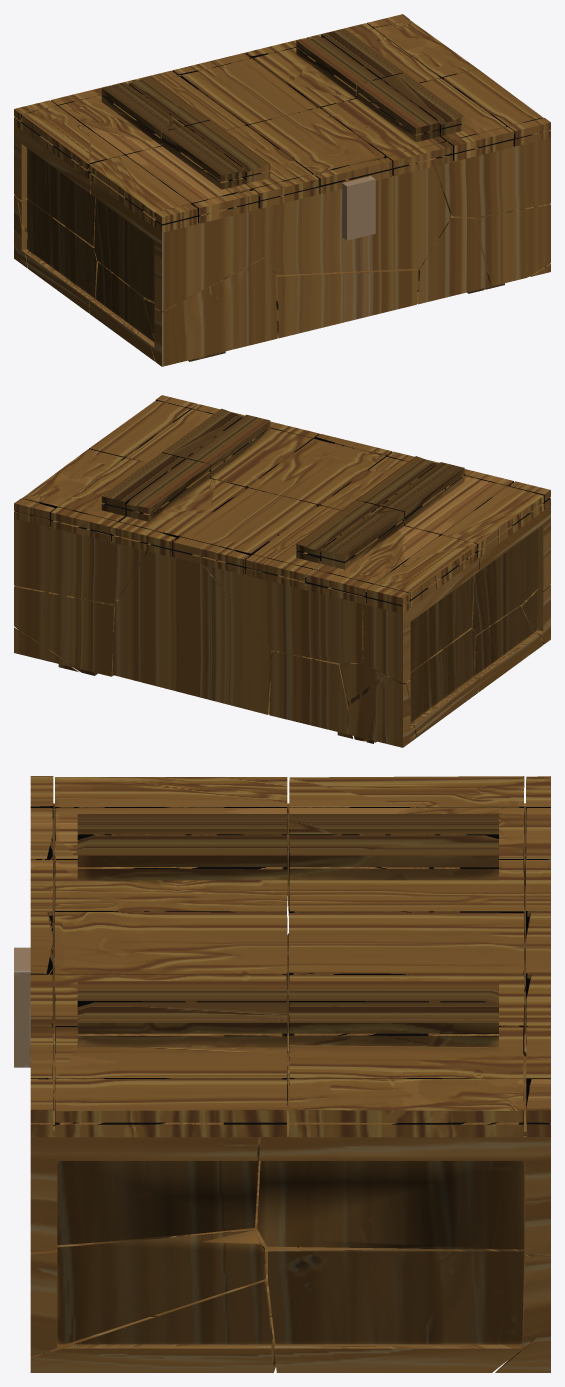
File: Crate_Shattered.fbx
3 views of the same model, one above another, from view 1: azimuth 30°, elevation 25°; view 2: azimuth 150°, elevation 25°; view 3: azimuth 270°, elevation 25° (orthographic). The views are drawn at different scales.
Visible parts, largest first — view 1: Crate_geo_cell.020, Crate_geo_cell.006, Crate_geo_cell.003, Crate_geo_cell.001, Crate_geo_cell.010, Crate_geo_cell.016, Crate_geo_cell.015, Crate_cover_geo_cell.046, Crate_cover_geo_cell.032, Crate_geo_cell.005, Crate_geo_cell, Crate_geo_cell.013 (+37 smaller); view 2: Crate_geo_cell.002, Crate_geo_cell.017, Crate_geo_cell.014, Crate_geo_cell.016, Crate_geo_cell.007, Crate_geo_cell.015, Crate_geo_cell.006, Crate_geo_cell.009, Crate_cover_geo_cell.032, Crate_cover_geo_cell.046, Crate_geo_cell.004, Crate_cover_geo_cell.031 (+37 smaller); view 3: Crate_geo_cell.007, Crate_geo_cell.014, Crate_geo_cell.010, Crate_geo_cell.005, Crate_cover_geo_cell.032, Crate_cover_geo_cell.046, Crate_geo_cell.011, Crate_cover_geo_cell.033, Crate_cover_geo_cell.030, Crate_cover_geo_cell.044, Crate_cover_geo_cell.047, Crate_cover_geo_cell.029 (+33 smaller).
Part boxes in pixels (x1,y1,x2,y2): Crate_geo_cell.020: [265, 166, 450, 275]; Crate_geo_cell.006: [91, 181, 272, 311]; Crate_geo_cell.003: [143, 257, 277, 366]; Crate_geo_cell.001: [273, 268, 418, 338]; Crate_geo_cell.010: [434, 138, 550, 217]; Crate_geo_cell.016: [14, 125, 95, 246]; Crate_geo_cell.015: [18, 199, 98, 313]; Crate_cover_geo_cell.046: [247, 107, 385, 175]; Crate_cover_geo_cell.032: [181, 58, 317, 125]; Crate_geo_cell.005: [474, 203, 550, 286]; Crate_geo_cell: [417, 215, 489, 304]; Crate_geo_cell.013: [89, 262, 225, 361]; Crate_geo_cell.002: [112, 551, 339, 714]; Crate_geo_cell.017: [204, 565, 363, 663]; Crate_geo_cell.014: [14, 519, 147, 604]; Crate_geo_cell.016: [363, 558, 479, 683]; Crate_geo_cell.007: [14, 586, 117, 676]; Crate_geo_cell.015: [338, 628, 478, 742]; Crate_geo_cell.006: [471, 505, 550, 635]; Crate_geo_cell.009: [269, 651, 352, 738]; Crate_cover_geo_cell.032: [180, 488, 317, 555]; Crate_cover_geo_cell.046: [247, 439, 385, 506]; Crate_geo_cell.004: [348, 677, 416, 747]; Crate_cover_geo_cell.031: [120, 471, 245, 538]; Crate_geo_cell.007: [268, 1249, 550, 1372]; Crate_geo_cell.014: [257, 1130, 550, 1254]; Crate_geo_cell.010: [30, 1130, 260, 1252]; Crate_geo_cell.005: [30, 1230, 265, 1356]; Crate_cover_geo_cell.032: [289, 912, 523, 981]; Crate_cover_geo_cell.046: [55, 912, 287, 985]; Crate_geo_cell.011: [30, 1281, 275, 1372]; Crate_cover_geo_cell.033: [289, 852, 524, 912]; Crate_cover_geo_cell.030: [289, 1015, 523, 1078]; Crate_cover_geo_cell.044: [55, 1027, 286, 1090]; Crate_cover_geo_cell.047: [54, 849, 287, 922]; Crate_cover_geo_cell.029: [289, 1079, 523, 1122].
Size of the model in its own units: 65.17 by 27.97 by 44.33.
